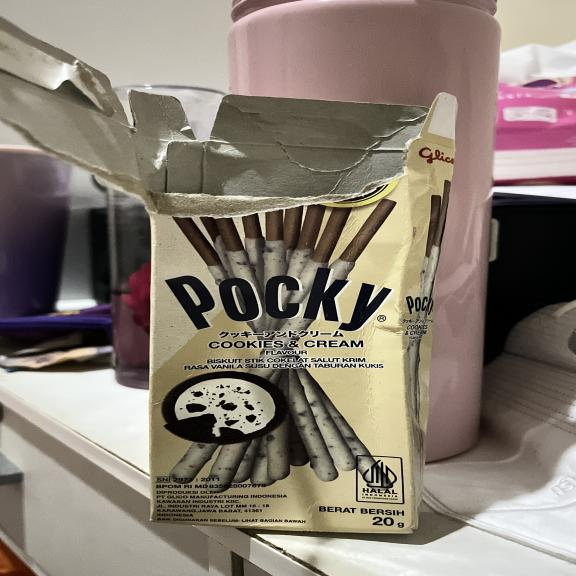Kertas: (142, 139, 452, 534)
